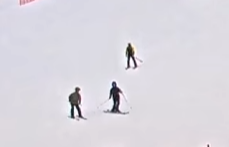skier: (98, 81, 133, 115), (67, 87, 88, 122), (122, 43, 143, 70)
